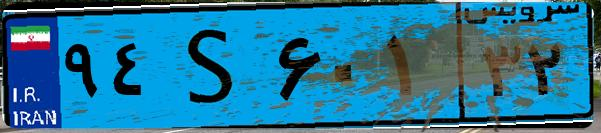0: (330, 28, 385, 110)
1: (385, 28, 445, 110)
2: (525, 38, 570, 115)
3: (475, 38, 525, 113)
4: (110, 28, 158, 98)
6: (270, 28, 330, 110)
9: (57, 26, 110, 100)
S: (158, 12, 270, 120)
